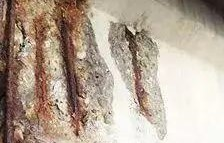Exposed reinforcement: (59, 6, 80, 135), (124, 24, 152, 118), (4, 1, 16, 143), (34, 16, 47, 124)
Spalling: (1, 1, 115, 143), (108, 20, 168, 141)
